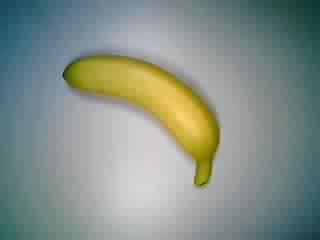banana: (57, 47, 227, 191)
